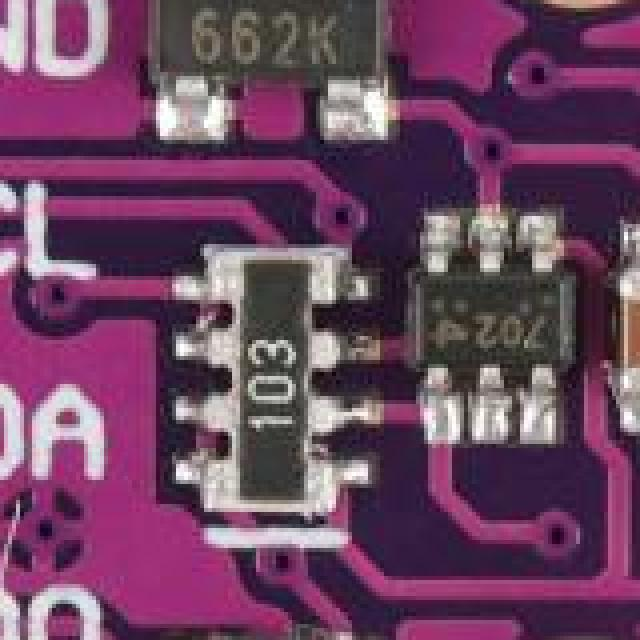IC: (400, 232, 586, 410)
capacitor: (608, 244, 640, 420)
resistor: (200, 240, 332, 510), (192, 628, 340, 640)
transistor: (144, 0, 412, 128)
